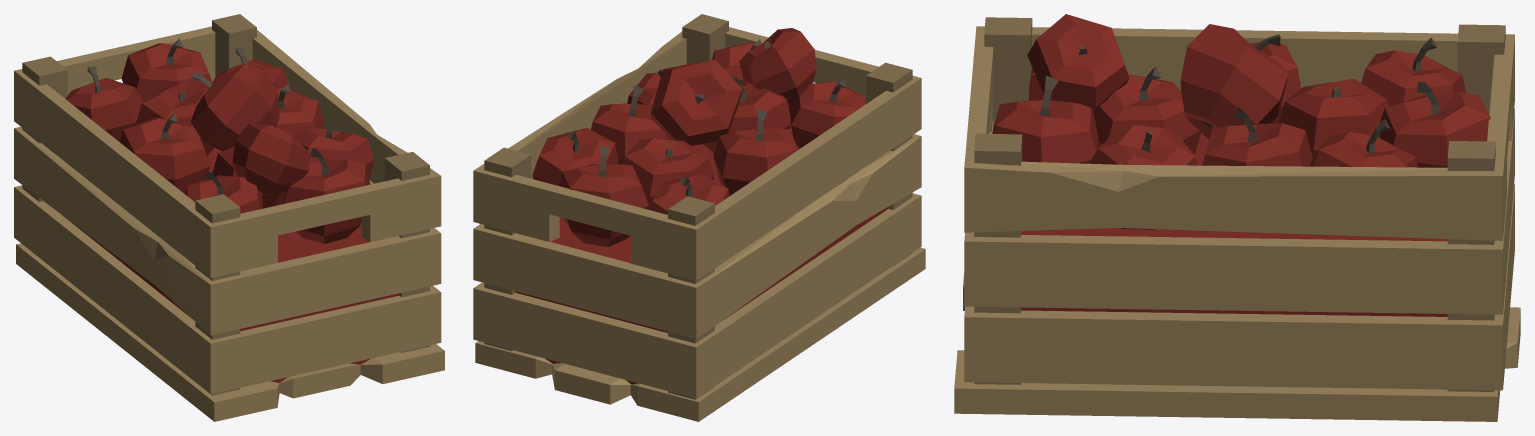
Rendered from SM_Prop_Box_Apple_01.fbx.
3 views of the same model, side by side, from view 1: azimuth 30°, elevation 25°; view 2: azimuth 150°, elevation 25°; view 3: azimuth 270°, elevation 25° (orthographic). The views are drawn at different scales.
Parts seen in each view (by area): view 1: SM_Prop_Box_Apple_01; view 2: SM_Prop_Box_Apple_01; view 3: SM_Prop_Box_Apple_01.
Boxes of the visible parts, <box> form: SM_Prop_Box_Apple_01: <box>14,14,444,421</box>; SM_Prop_Box_Apple_01: <box>473,14,925,421</box>; SM_Prop_Box_Apple_01: <box>954,14,1520,421</box>.
Bounding box in the file's own units: 47.9 × 47.67 × 76.56.
1 material, 1 textured.
